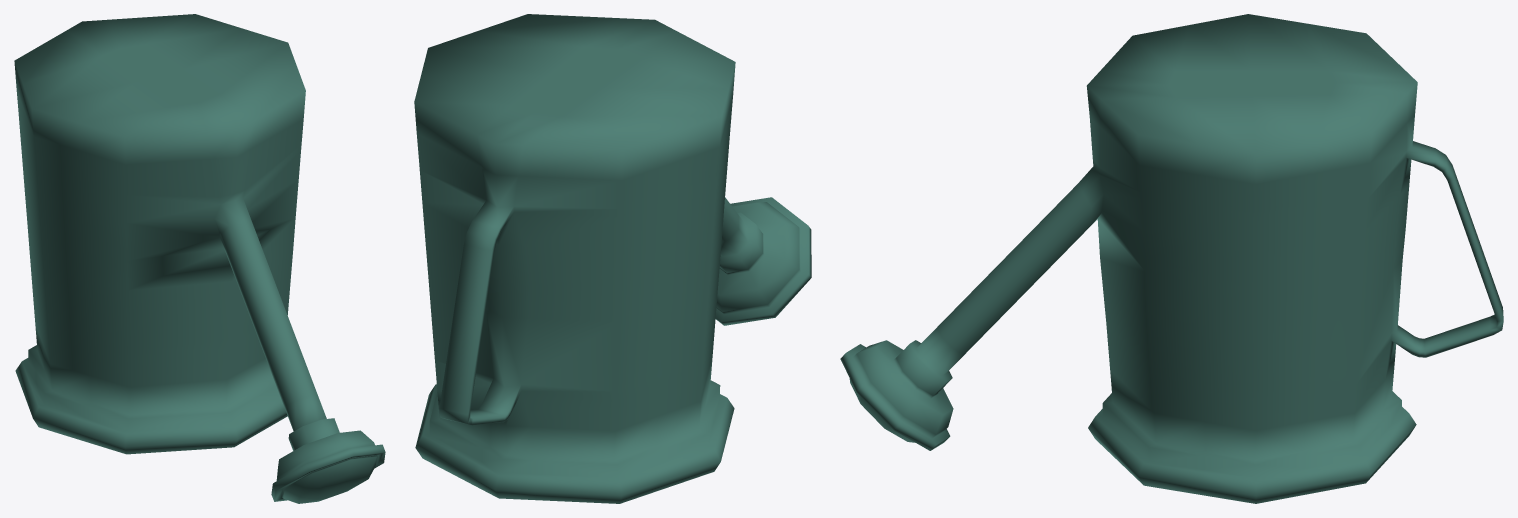
File: WateringCan-optimized.glb
3 renders of one model, left to right at view 1: azimuth 30°, elevation 25°; view 2: azimuth 150°, elevation 25°; view 3: azimuth 270°, elevation 25°, orthographic. The views are drawn at different scales.
Parts seen in each view (by area): view 1: WaterCan.001; view 2: WaterCan.001; view 3: WaterCan.001.
Boxes of the visible parts, x1,y1,x2,y2 form: WaterCan.001: (14,14,385,503); WaterCan.001: (414,14,811,503); WaterCan.001: (840,14,1503,503).
Size of the model in its own units: 2.15 by 2.73 by 4.31.
Materials: 1 (1 with a texture image).
